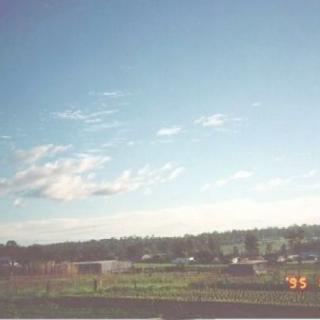Cirrocumulus: (0, 91, 320, 226)
